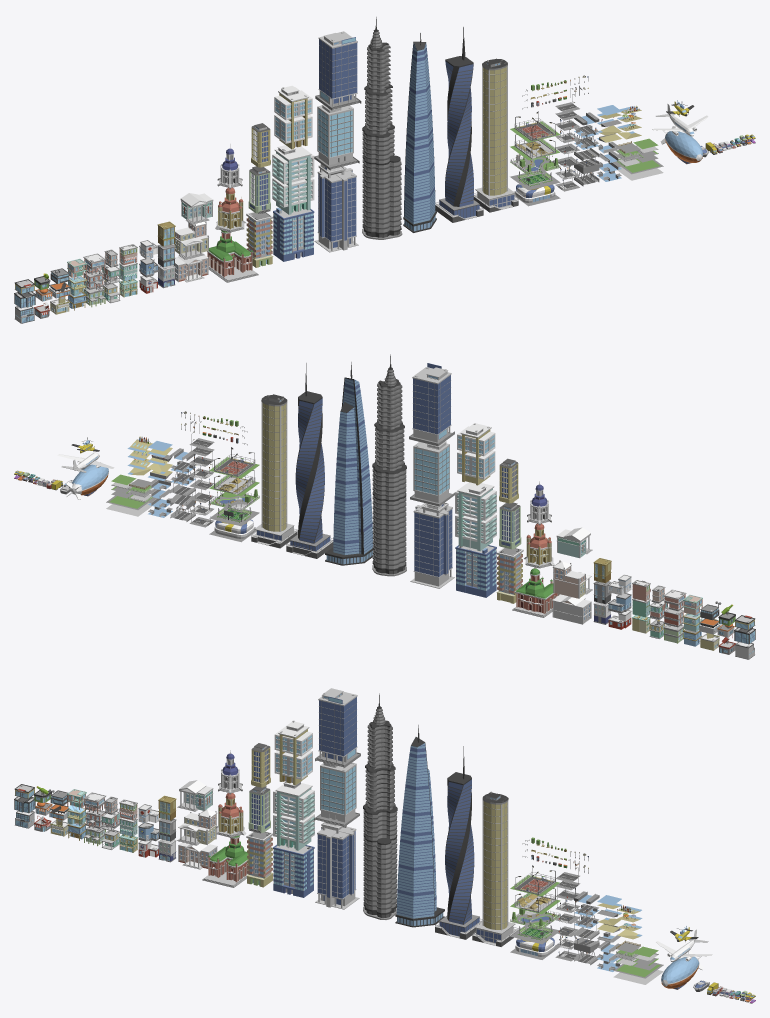
File: Tile_pack_city_3_assets.fbx
The picture shows the model from 3 angles, top to bottom: view 1: azimuth 30°, elevation 25°; view 2: azimuth 150°, elevation 25°; view 3: azimuth 330°, elevation 25°; orthographic projection.
Visible parts, largest first — view 1: skyscraoer.003, skyscraoer.008, skyscraoer.006, skyscraoer.018, home_business_centers.001, home_business_centers.004, home_high.002, home_business_centers.003, home_high.009, home_high.003, home_temple.008, home_living_1.008 (+13 smaller); view 2: skyscraoer.003, skyscraoer.008, skyscraoer.006, skyscraoer.018, home_business_centers.001, home_business_centers.004, home_high.002, home_business_centers.003, home_high.009, home_high.003, home_temple.008, home_living_1.008 (+13 smaller); view 3: skyscraoer.003, skyscraoer.008, skyscraoer.006, skyscraoer.018, home_business_centers.001, home_business_centers.004, home_high.002, home_business_centers.003, home_high.009, home_high.003, home_temple.008, home_living_1.008 (+13 smaller).
Boxes of the visible parts, box(x1,y1,x2,y2) form: skyscraoer.003: box(362, 17, 402, 239); skyscraoer.008: box(403, 33, 436, 232); skyscraoer.006: box(435, 27, 483, 222); skyscraoer.018: box(474, 58, 518, 212); home_business_centers.001: box(314, 164, 358, 252); home_business_centers.004: box(315, 31, 361, 110); home_high.002: box(272, 145, 314, 214); home_business_centers.003: box(314, 104, 359, 170); home_high.009: box(274, 85, 312, 149); home_high.003: box(273, 207, 314, 261); home_temple.008: box(207, 230, 258, 282); home_living_1.008: box(246, 212, 273, 267); skyscraoer.003: box(372, 354, 406, 576); skyscraoer.008: box(325, 362, 373, 565); skyscraoer.006: box(286, 363, 333, 558); skyscraoer.018: box(251, 394, 297, 548); home_business_centers.001: box(410, 502, 454, 588); home_business_centers.004: box(409, 363, 454, 446); home_high.002: box(455, 482, 496, 551); home_business_centers.003: box(410, 441, 454, 506); home_high.009: box(457, 423, 495, 485); home_high.003: box(455, 545, 496, 597); home_temple.008: box(512, 567, 559, 617); home_living_1.008: box(496, 547, 523, 603); skyscraoer.003: box(363, 693, 397, 919); skyscraoer.008: box(395, 725, 444, 927); skyscraoer.006: box(435, 746, 482, 939); skyscraoer.018: box(472, 791, 518, 946); home_business_centers.001: box(315, 822, 359, 909); home_business_centers.004: box(315, 688, 360, 767); home_high.002: box(273, 781, 314, 850); home_business_centers.003: box(314, 762, 359, 827); home_high.009: box(274, 720, 312, 785); home_high.003: box(273, 843, 314, 897); home_temple.008: box(202, 835, 248, 887); home_living_1.008: box(246, 831, 273, 887).
Bounding box in the file's own units: 182 × 51.82 × 14.11.
